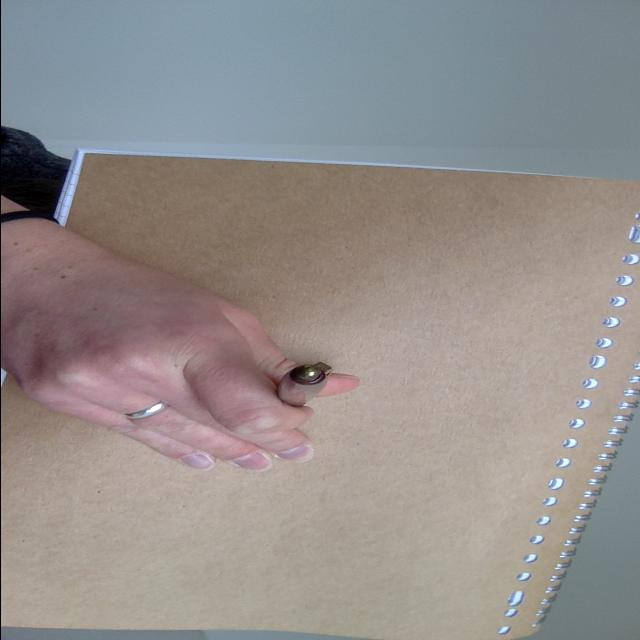pen: (268, 357, 338, 412)
